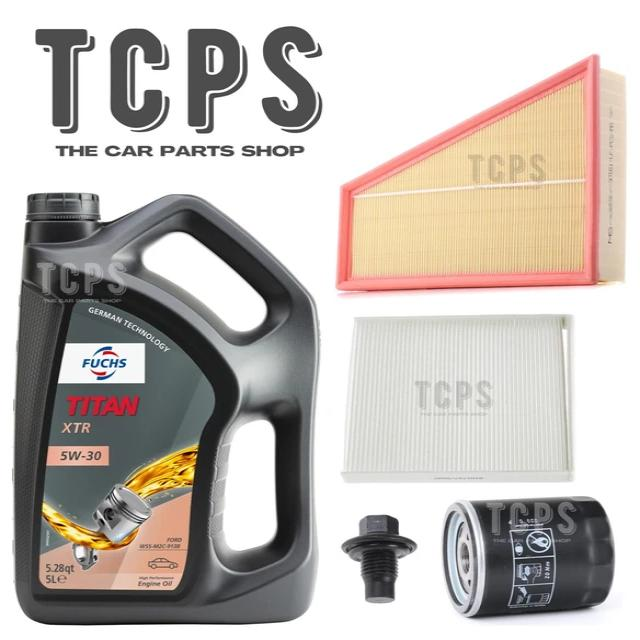air_filter: (338, 56, 632, 294), (339, 310, 578, 483)
motor_oil: (7, 187, 326, 631)
oil_filter: (438, 494, 615, 623)
